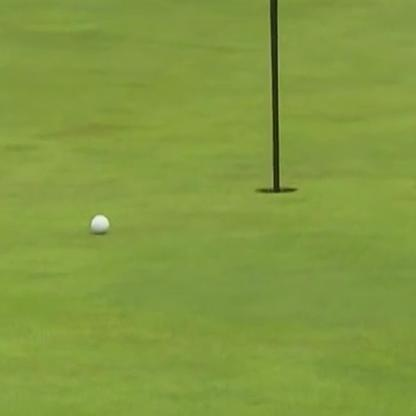golfball: (88, 213, 112, 235)
